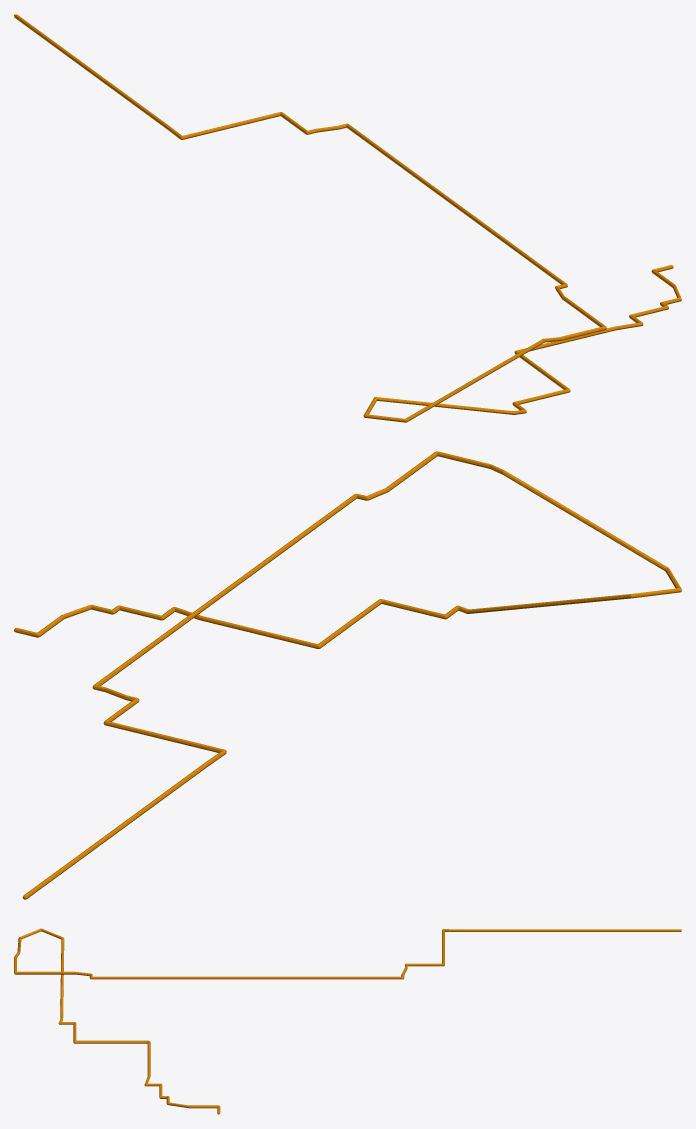
3 views of the same model, one above another, from view 1: azimuth 30°, elevation 25°; view 2: azimuth 150°, elevation 25°; view 3: azimuth 270°, elevation 25° (orthographic). The views are drawn at different scales.
Bounding box in the file's own units: 2406 × 520 × 4501.
